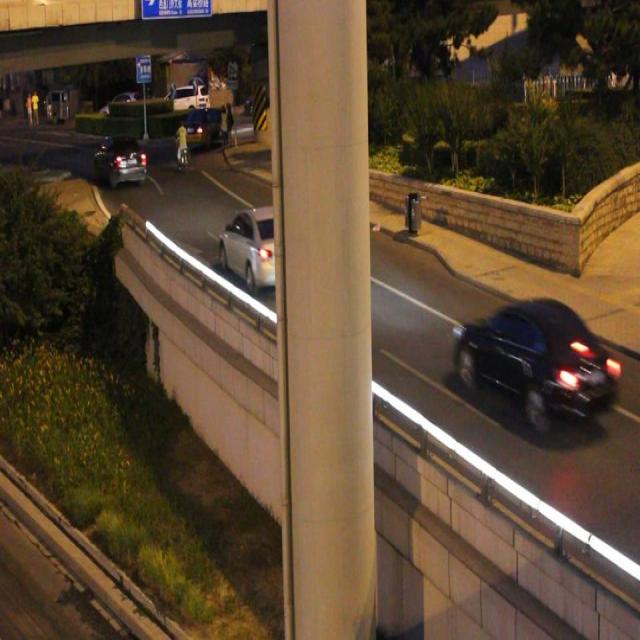car: (452, 296, 612, 429), (218, 204, 300, 293)
